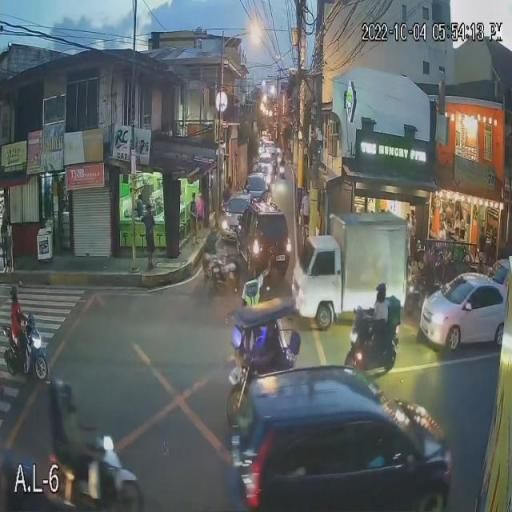helmet: (46, 380, 80, 418), (6, 284, 21, 304), (374, 282, 386, 300)
motorcycle: (48, 430, 144, 512), (342, 311, 396, 378), (3, 312, 50, 382)
rider: (47, 378, 95, 489), (361, 284, 396, 358), (9, 292, 32, 361)
